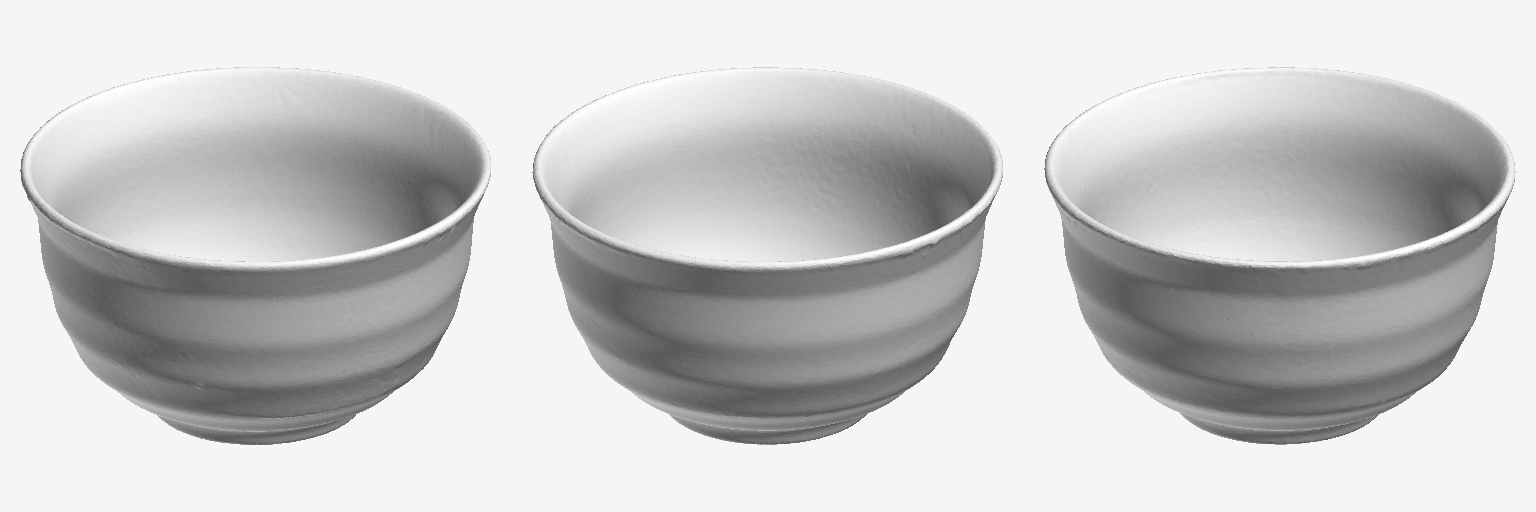
robot.urdf — model.urdf:
<robot name="model.urdf">
    <link name="baseLink">
        <contact>
            <lateral_friction value="0.5"/>
            <rolling_friction value="0.001"/>
            <spinning_friction value="0.001"/>
            <contact_cfm value="0.0"/>
            <contact_erp value="1.0"/>
        </contact>
        <inertial>
            <origin rpy="0 0 0" xyz="0. 0.0 0.0"/>
            <mass value="1.2"/>
            <inertia ixx="1e-3" ixy="0" ixz="0" iyy="1e-3" iyz="0" izz="1e-3"/>
        </inertial>
        <visual>
            <origin xyz="0.0 0.0 0.0" rpy="0 0 -1.7" />
            <geometry>
                <mesh filename="nontextured.stl" scale="1 1 1"/>
            </geometry>
            <material name="white">
                <color rgba="1 1 1 1"/>
            </material>
        </visual>
        <collision>
            <origin xyz="0.0 0.0 0.0" rpy="0 0 -1.7" />
            <geometry>
                <mesh filename="nontextured.stl" scale="1 1 1"/>
            </geometry>
        </collision>
    </link>
</robot>

--- Facts derived from the render (not from the file) ---
Views: 3 orthographic renders of the robot side by side, from view 1: azimuth 30°, elevation 25°; view 2: azimuth 150°, elevation 25°; view 3: azimuth 270°, elevation 25°.
Robot: model.urdf — 1 links, 0 joints (none); root link baseLink; default pose: every joint at zero.
Visible links, largest first — view 1: baseLink; view 2: baseLink; view 3: baseLink.
Link boxes in pixels (x1,y1,x2,y2): baseLink: (20, 67, 490, 444); baseLink: (532, 67, 1002, 444); baseLink: (1044, 67, 1515, 444).
Size in the robot's own frame: 0.1939 by 0.1944 by 0.1081 metres.
Meshes: 1 distinct files referenced, 1 mesh visuals loaded (1 binary STL).